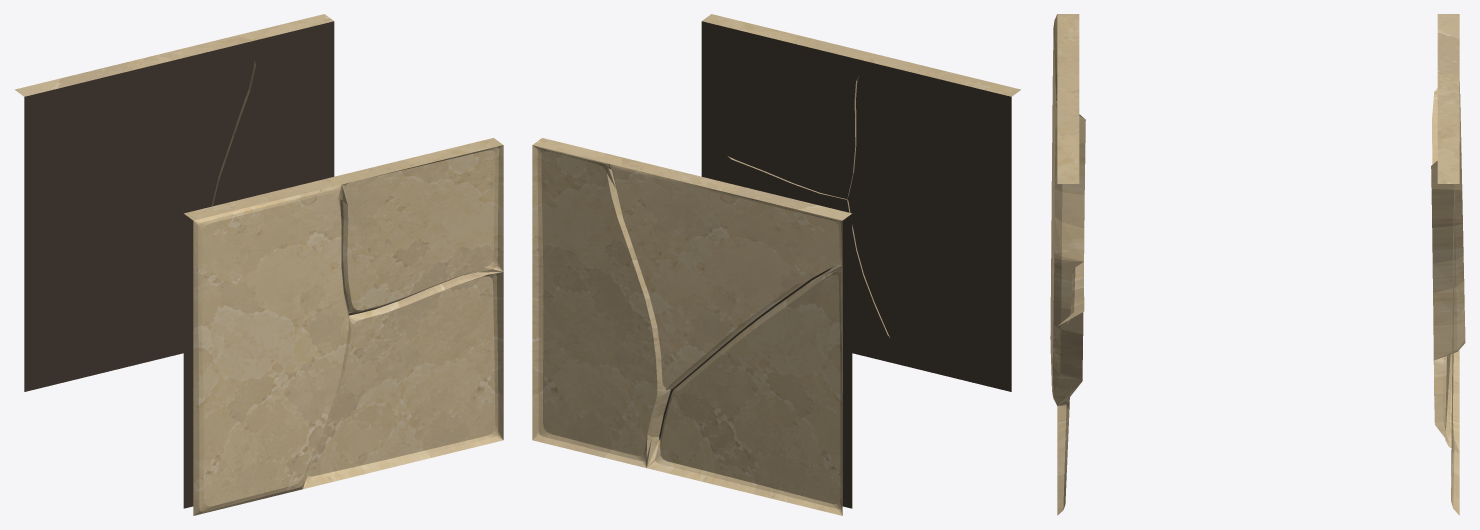
Rendered from ground_strip_02.glb.
3 views of the same model, side by side, from view 1: azimuth 30°, elevation 25°; view 2: azimuth 150°, elevation 25°; view 3: azimuth 270°, elevation 25° (orthographic). The views are drawn at different scales.
Parts seen in each view (by area): view 1: GroundStrip02_Body; view 2: GroundStrip02_Body; view 3: GroundStrip02_Body.
Boxes of the visible parts, x1=… form: GroundStrip02_Body: x1=15, y1=14, x2=503, y2=515; GroundStrip02_Body: x1=532, y1=14, x2=1020, y2=515; GroundStrip02_Body: x1=1050, y1=14, x2=1465, y2=515.
Bounding box in the file's own units: 1 × 0.91 × 1.03.
8 materials, 7 textured.
